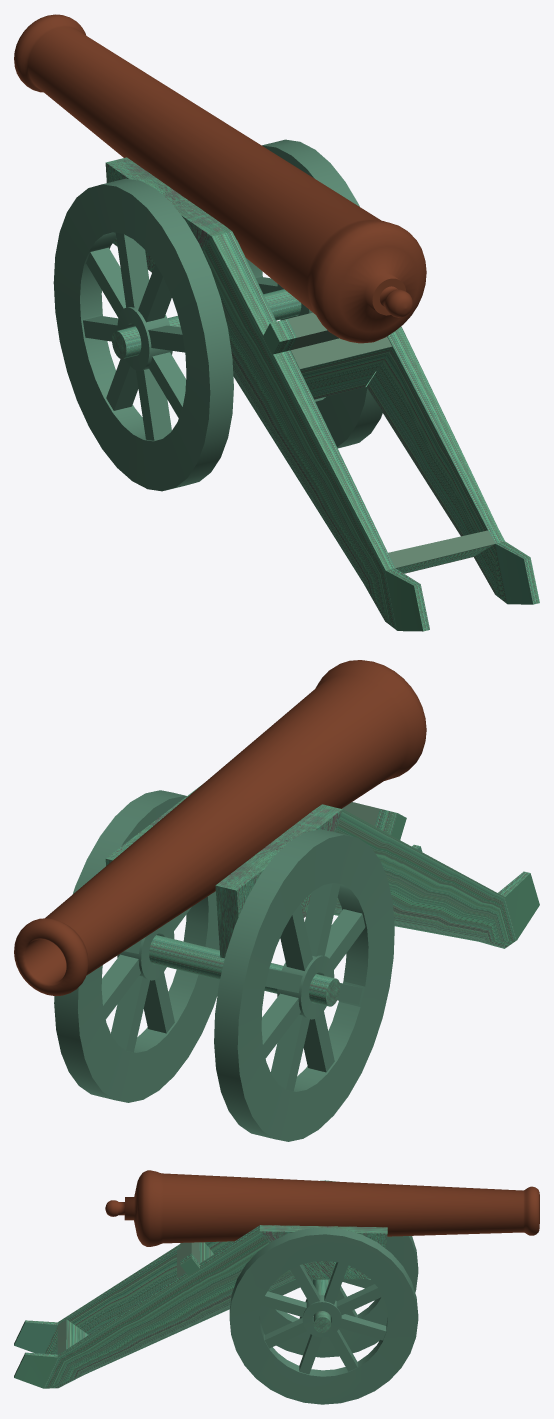
File: CannonMODELTEXT5.fbx
The picture shows the model from 3 angles, top to bottom: view 1: azimuth 30°, elevation 25°; view 2: azimuth 150°, elevation 25°; view 3: azimuth 270°, elevation 25°; orthographic projection. The views are drawn at different scales.
Visible parts, largest first — view 1: Base, Circle, Wheel.001, Wheel, Cylinder; view 2: Circle, Wheel.001, Wheel, Base, Cylinder; view 3: Circle, Wheel, Base, Wheel.001, Cylinder.
Part boxes in pixels (<box>): Base: <box>105,157,539,631</box>; Circle: <box>14,14,426,343</box>; Wheel.001: <box>53,178,233,491</box>; Wheel: <box>246,139,382,448</box>; Cylinder: <box>112,289,301,358</box>; Circle: <box>14,660,426,996</box>; Wheel.001: <box>214,829,394,1141</box>; Wheel: <box>54,790,219,1102</box>; Base: <box>105,784,539,958</box>; Cylinder: <box>149,935,340,1006</box>; Circle: <box>105,1170,539,1246</box>; Wheel: <box>229,1227,418,1404</box>; Base: <box>14,1225,387,1388</box>; Wheel.001: <box>260,1180,418,1357</box>; Cylinder: <box>313,1279,330,1332</box>.
Bounding box in the file's own units: 596 × 903 × 2107.
Materials: 2 (2 with a texture image).
